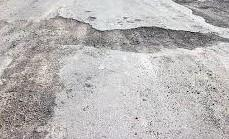pothole: (35, 17, 229, 54), (0, 76, 56, 135)
